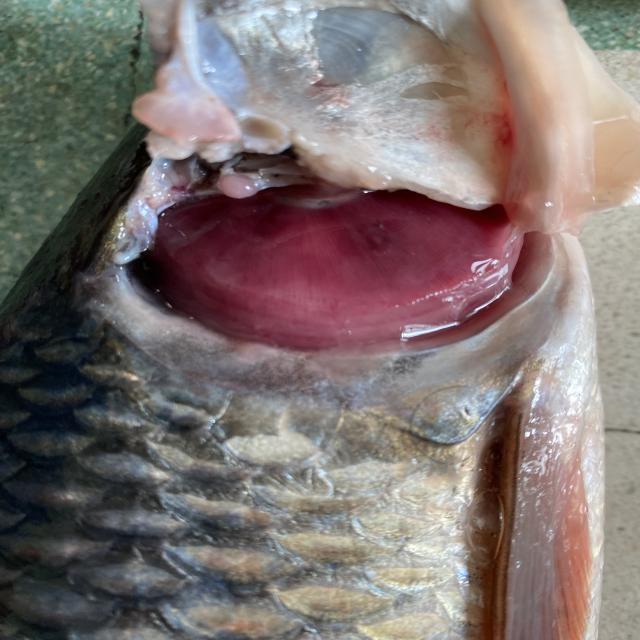Fresh: (64, 122, 617, 392)
